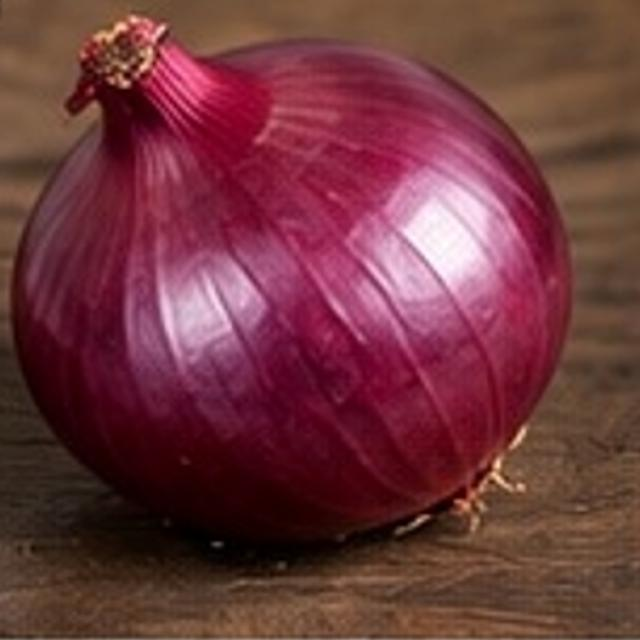healthy: (311, 340, 331, 356)
